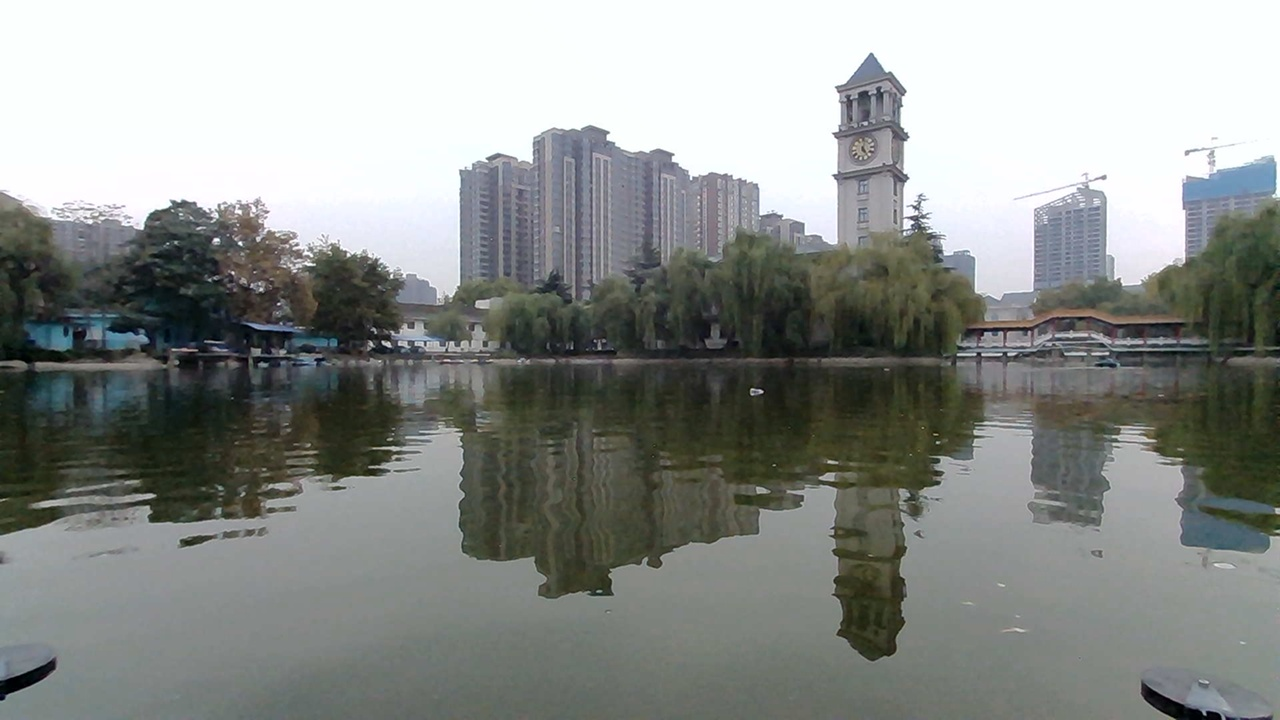bottle: (732, 376, 771, 406)
